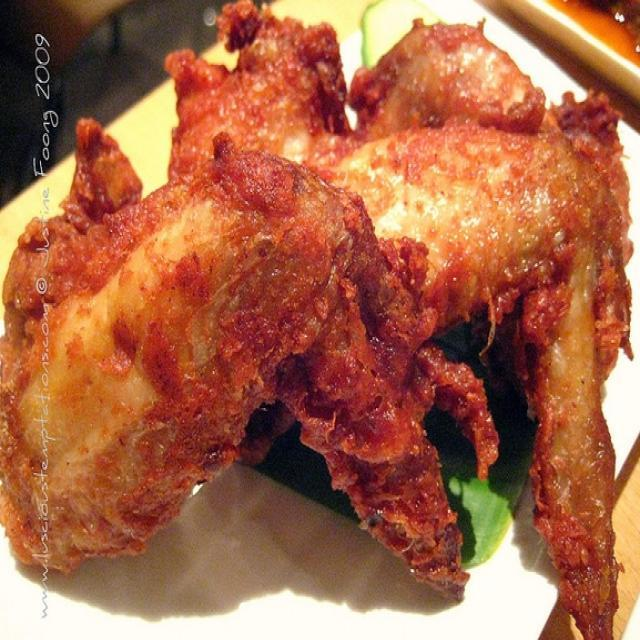Deep fried chicken wing: (55, 61, 619, 579)
